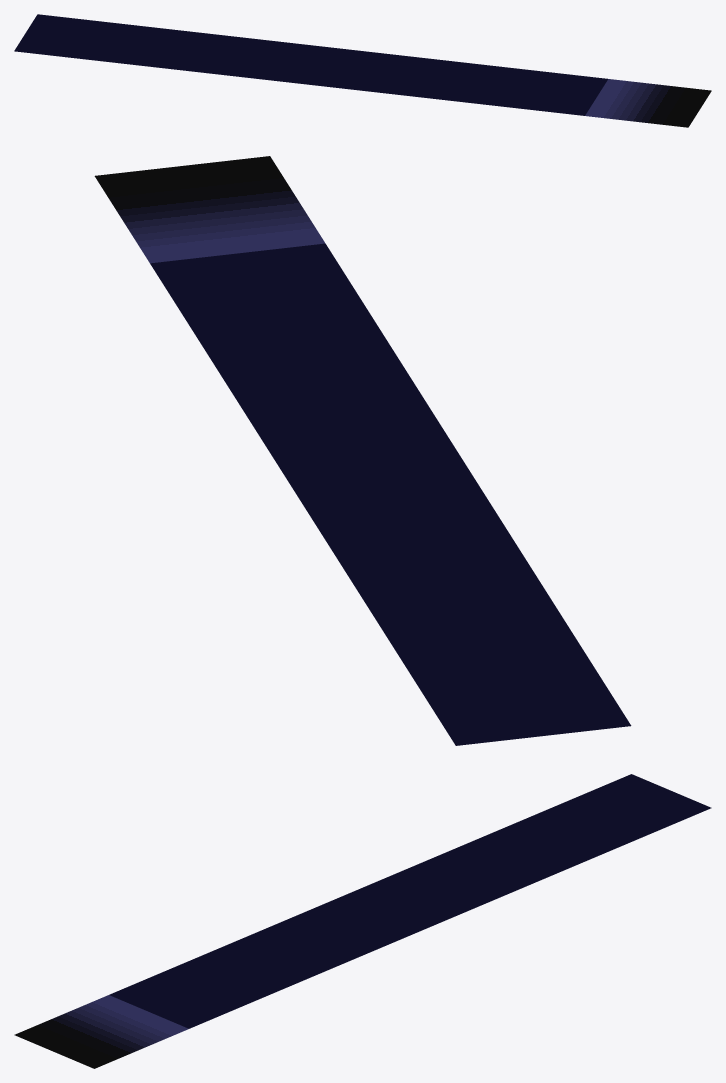
3 views of the same model, one above another, from view 1: azimuth 30°, elevation 25°; view 2: azimuth 150°, elevation 25°; view 3: azimuth 270°, elevation 25° (orthographic). The views are drawn at different scales.
Parts seen in each view (by area): view 1: Joint_0_Object_0; view 2: Joint_0_Object_0; view 3: Joint_0_Object_0.
Boxes of the visible parts, box(x1,y1,x2,y2) form: Joint_0_Object_0: box(14, 14, 711, 127); Joint_0_Object_0: box(94, 156, 631, 745); Joint_0_Object_0: box(14, 774, 711, 1068).
Size of the model in its own units: 1841 by 0 by 1841.
Materials: 1 (1 with a texture image).
